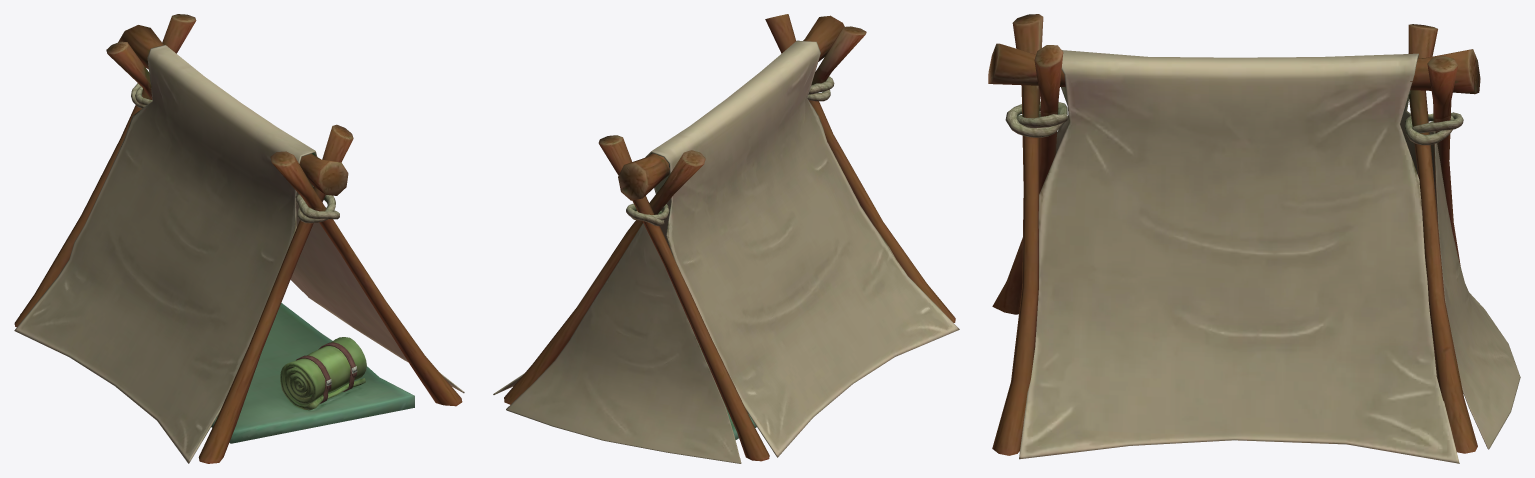
Rendered from PRP_Tent.glb.
3 renders of one model, left to right at view 1: azimuth 30°, elevation 25°; view 2: azimuth 150°, elevation 25°; view 3: azimuth 270°, elevation 25°, orthographic. The views are drawn at different scales.
Parts seen in each view (by area): view 1: tent_Mat_0; view 2: tent_Mat_0; view 3: tent_Mat_0.
Boxes of the visible parts, left/top/right/bottom form: tent_Mat_0: left=14, top=14, right=464, bottom=463; tent_Mat_0: left=493, top=14, right=959, bottom=463; tent_Mat_0: left=988, top=14, right=1520, bottom=463.
Bounding box in the file's own units: 184 × 179 × 248.
1 material, 1 textured.
